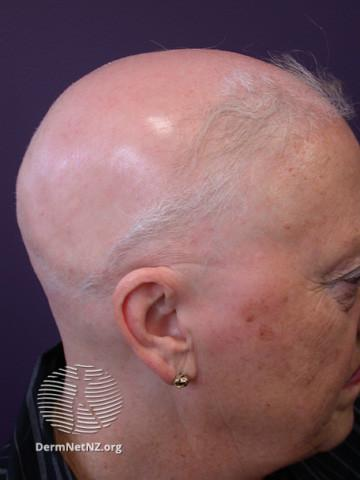Alopecia Areata: (26, 43, 284, 314), (107, 59, 219, 231)
